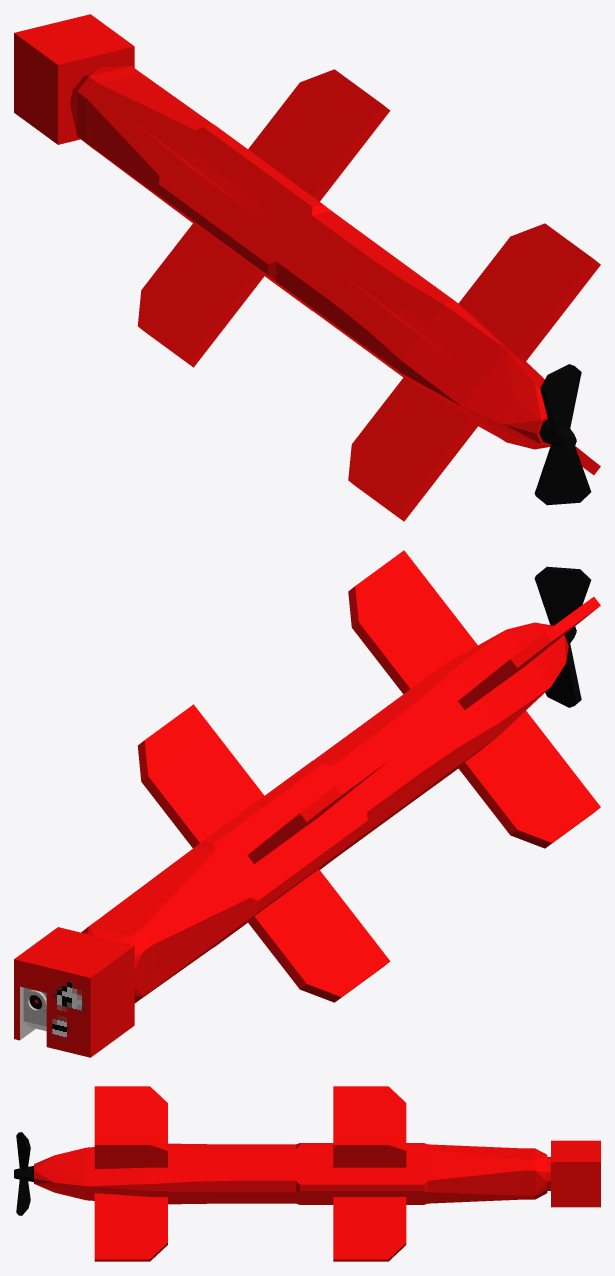
The model's file is 安洁莉卡.obj.
The picture shows the model from 3 angles, top to bottom: view 1: azimuth 30°, elevation 25°; view 2: azimuth 150°, elevation 25°; view 3: azimuth 270°, elevation 25°; orthographic projection. The views are drawn at different scales.
Visible parts, largest first — view 1: pig; view 2: pig; view 3: pig.
Boxes of the visible parts, x1=… form: pig: x1=14, y1=14, x2=600, y2=521; pig: x1=14, y1=550, x2=600, y2=1057; pig: x1=14, y1=1086, x2=600, y2=1261.
Size of the model in its own units: 0.8343 by 0.8463 by 3.67.
Materials: 1 (1 with a texture image).
